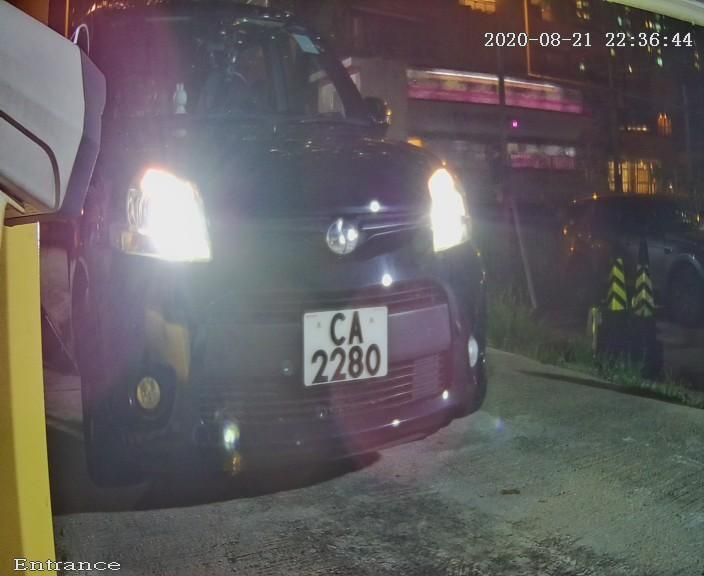Car: (4, 6, 529, 525)
License Plate: (290, 296, 397, 402)
